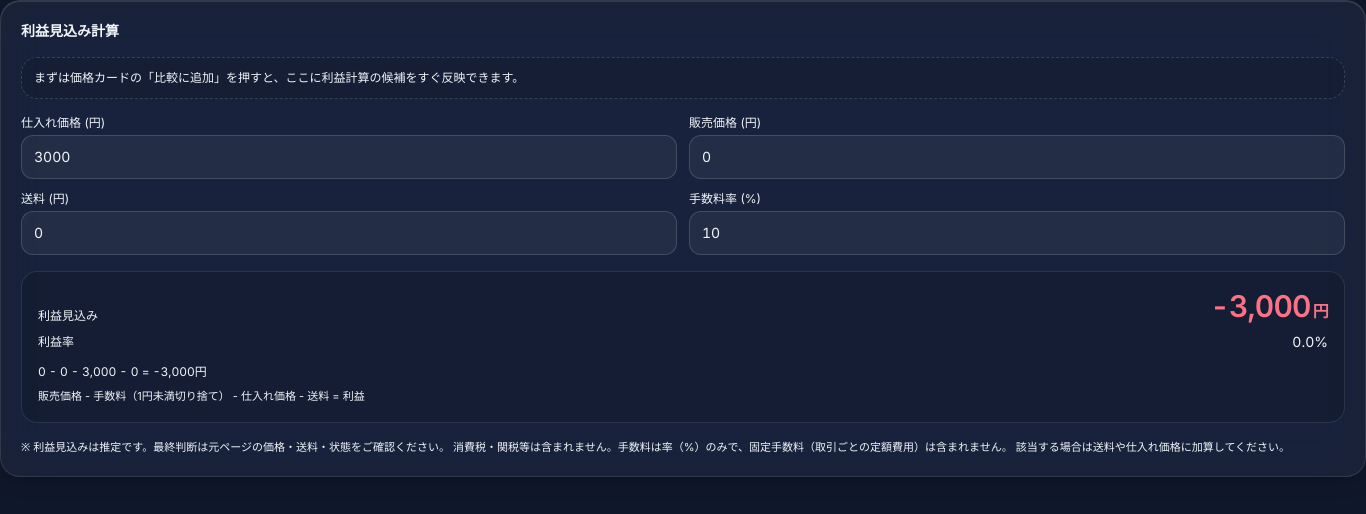
Test case: ProfitPanel › 数字でない入力はストアを壊さず、エラー表示して直前の値を保つ
This screenshot has width=1366, height=514.
Replace the text in the field labelled "仕入れ価格 (円)" with "abc" at (349, 157), box [21,135,677,179]
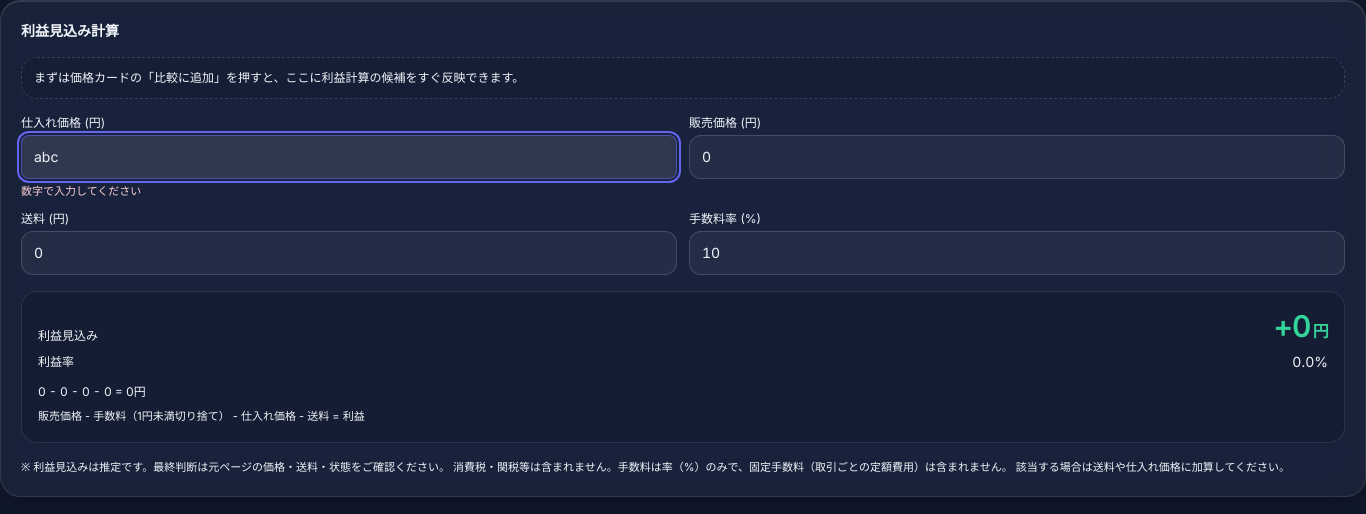
Expected: the text "数字で入力してください" is shown, [21,184,141,198]
Press Tab
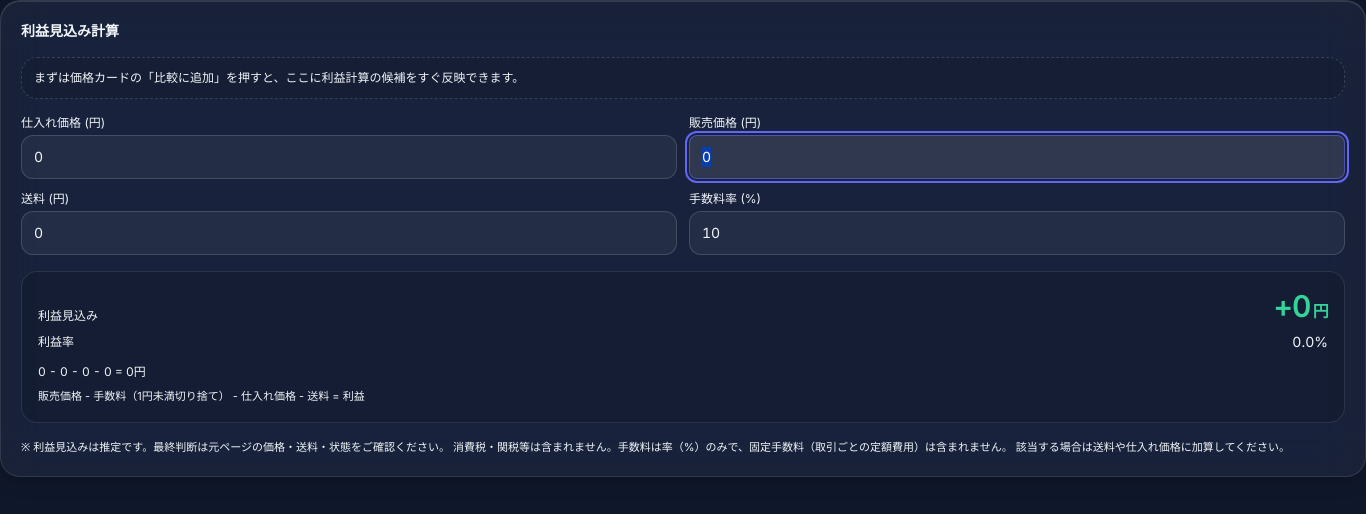
Expected: the field labelled "仕入れ価格 (円)" holds "0", [21,135,677,179]
